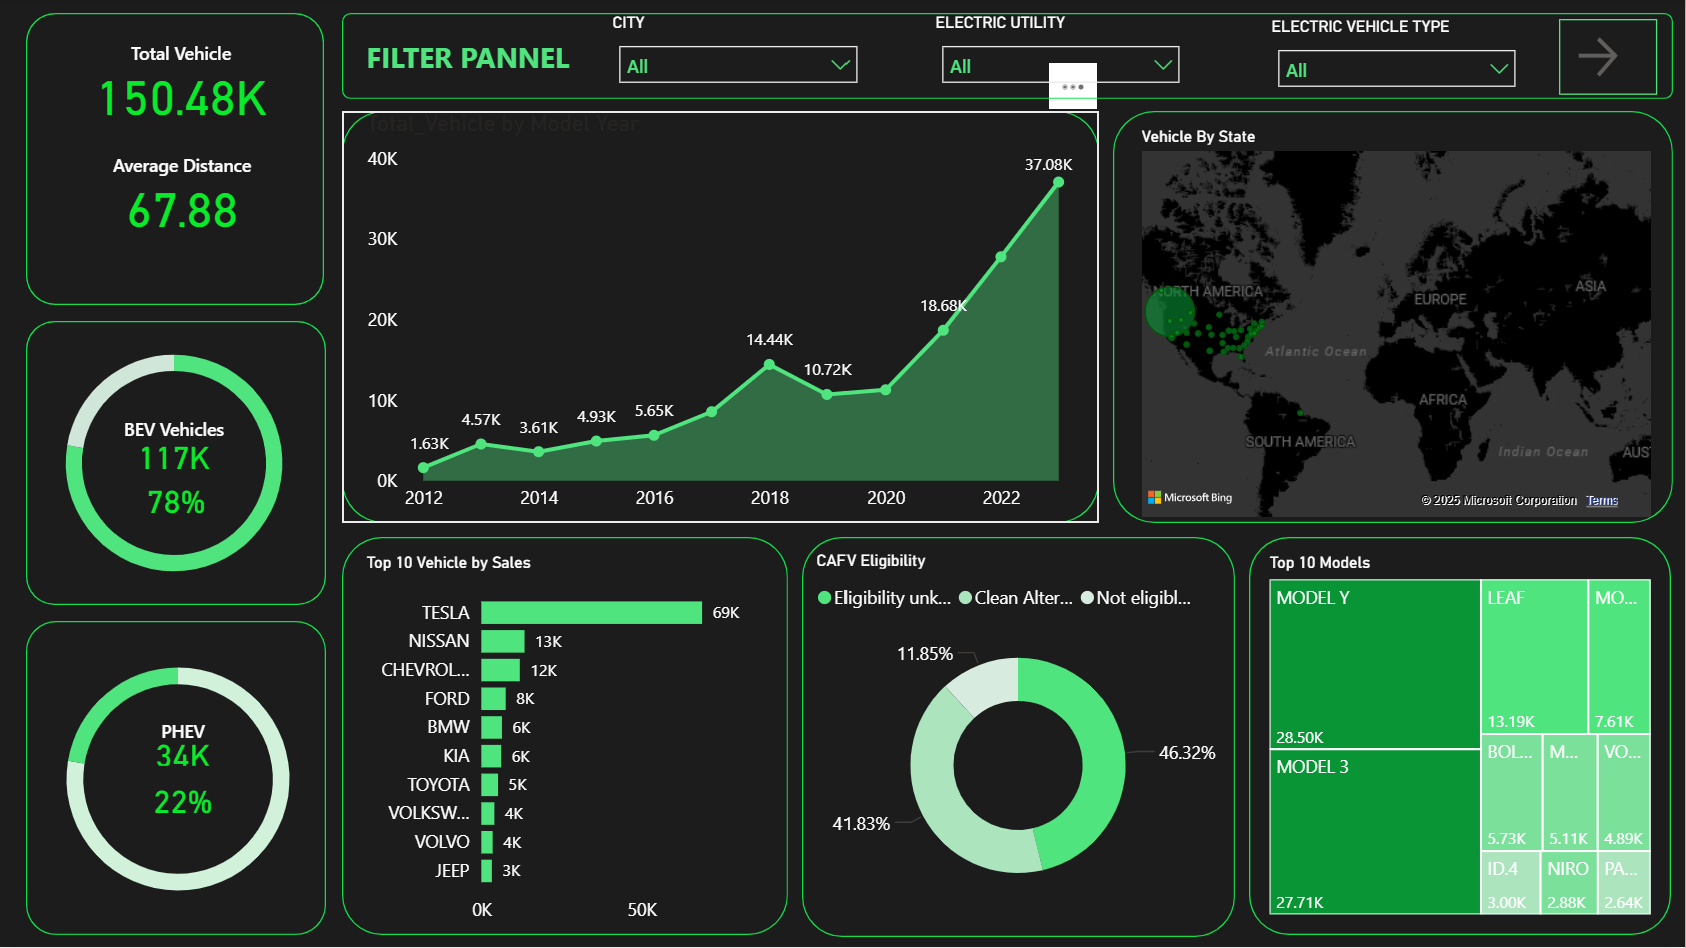

Layout of this report page (visuals, bound fields, positions):
{"tool":"powerbi","page":{"name":"Dashboard","canvas":[1280,720],"ordinal":0},"visuals":[{"type":"shape","box":[22.7,12.1,226,221.4],"z":0},{"type":"card","title":"Total Vehicle","fields":{"Values":["MeasureTable.Total_Vehicle"]},"box":[60.7,33.4,159.2,66.7],"z":1000},{"type":"card","title":"Average Distance","fields":{"Values":["MeasureTable.Average_Electric_Change"]},"box":[56.1,118.3,169.9,66.7],"z":2000},{"type":"shape","box":[22.7,245.7,227.5,215.4],"z":3000},{"type":"shape","box":[22.7,473.2,227.5,238.1],"z":4000},{"type":"card","title":"BEV Vehicles","fields":{"Values":["MeasureTable.BEV"]},"box":[86.4,318.5,97.1,47],"z":5000},{"type":"card","title":"PHEV","fields":{"Values":["MeasureTable.PBEV"]},"box":[91,547.5,101.6,39.4],"z":6000},{"type":"donutChart","fields":{"Y":["MeasureTable.Percentage Electric Vehicle Type"],"Category":["Electric_Vehicle_Population_Data.Electric Vehicle Type"]},"box":[21.2,245.7,227.5,215.4],"z":7000},{"type":"card","title":"Total Vehicle","fields":{"Values":["MeasureTable.BEV_percenatge_total"]},"box":[104.6,365.5,63.7,33.4],"z":8000},{"type":"donutChart","fields":{"Y":["MeasureTable.Percentage Electric Vehicle Type"],"Category":["Electric_Vehicle_Population_Data.Electric Vehicle Type"]},"box":[27.3,473.2,221.4,239.6],"z":9000},{"type":"card","title":"Total Vehicle","fields":{"Values":["MeasureTable.PHEV_percenatge_total"]},"box":[107.7,593,68.2,33.4],"z":10000},{"type":"lineChart","fields":{"Category":["Electric_Vehicle_Population_Data.Model Year"],"Y":["MeasureTable.Total_Vehicle"]},"box":[276,86.4,549,312.4],"z":11000},{"type":"shape","box":[262.4,86.4,573.3,312.4],"z":12000},{"type":"shape","box":[262.4,409.5,338.2,301.8],"z":12001},{"type":"shape","box":[611.2,409.5,327.6,303.3],"z":12002},{"type":"shape","box":[949.4,409.5,320,301.8],"z":12003},{"type":"shape","box":[846.3,86.4,424.6,312.4],"z":12004},{"type":"clusteredBarChart","title":"Top 10 Vehicle by Sales","fields":{"Category":["Electric_Vehicle_Population_Data.Make"],"Y":["MeasureTable.Total_Vehicle"]},"box":[276,421.6,317,289.7],"z":12005},{"type":"donutChart","title":"CAFV Eligibility","fields":{"Y":["MeasureTable.CAFV_percenatge_total"],"Category":["Electric_Vehicle_Population_Data.Clean Alternative Fuel Vehicle (CAFV) Eligibility"]},"box":[617.3,420.1,313.9,280.6],"z":12006},{"type":"treemap","title":"Top 10 Models","fields":{"Group":["Electric_Vehicle_Population_Data.Model"],"Values":["MeasureTable.Total_Vehicle"]},"box":[960,421.6,298.8,279.1],"z":12007},{"type":"map","title":"Vehicle By State","fields":{"Category":["Electric_Vehicle_Population_Data.State"],"Size":["MeasureTable.Total_Vehicle"]},"box":[862.9,98.6,395.8,300.3],"z":12008},{"type":"shape","box":[262.4,12.1,1008.5,65.2],"z":12009},{"type":"textbox","box":[276,25.8,175.9,40.9],"z":12010},{"type":"slicer","title":"CITY","fields":{"Values":["Electric_Vehicle_Population_Data.City"]},"box":[462.6,12.1,200.2,65.2],"z":12011},{"type":"slicer","title":"ELECTRIC UTILITY","fields":{"Values":["Electric_Vehicle_Population_Data.Electric Utility"]},"box":[706.7,12.1,200.2,65.2],"z":12012},{"type":"slicer","title":"ELECTRIC VEHICLE TYPE","fields":{"Values":["Electric_Vehicle_Population_Data.Electric Vehicle Type"]},"box":[961.5,15.2,200.2,65.2],"z":12013},{"type":"actionButton","title":"Calculation Page","box":[1184.5,16.7,74.3,57.6],"z":12014}]}

Visuals, with their boxes in screenshot pixels (x1, y1, x2, y2), scaled from the page's 1280x720 canvas onto the 1686x948 screenshot:
shape: region(30, 16, 328, 307)
"Total Vehicle" card: region(80, 44, 290, 132)
"Average Distance" card: region(74, 156, 298, 244)
shape: region(30, 324, 330, 607)
shape: region(30, 623, 330, 937)
"BEV Vehicles" card: region(114, 419, 242, 481)
"PHEV" card: region(120, 721, 254, 773)
donutChart - MeasureTable.Percentage Electric Vehicle Type x Electric_Vehicle_Population_Data.Electric Vehicle Type: region(28, 324, 328, 607)
"Total Vehicle" card: region(138, 481, 222, 525)
donutChart - MeasureTable.Percentage Electric Vehicle Type x Electric_Vehicle_Population_Data.Electric Vehicle Type: region(36, 623, 328, 939)
"Total Vehicle" card: region(142, 781, 232, 825)
lineChart - Electric_Vehicle_Population_Data.Model Year x MeasureTable.Total_Vehicle: region(364, 114, 1087, 525)
shape: region(346, 114, 1101, 525)
shape: region(346, 539, 791, 937)
shape: region(805, 539, 1237, 939)
shape: region(1251, 539, 1672, 937)
shape: region(1115, 114, 1674, 525)
"Top 10 Vehicle by Sales" clusteredBarChart: region(364, 555, 781, 937)
"CAFV Eligibility" donutChart: region(813, 553, 1227, 923)
"Top 10 Models" treemap: region(1264, 555, 1658, 923)
"Vehicle By State" map: region(1137, 130, 1658, 525)
shape: region(346, 16, 1674, 102)
textbox: region(364, 34, 595, 88)
"CITY" slicer: region(609, 16, 873, 102)
"ELECTRIC UTILITY" slicer: region(931, 16, 1195, 102)
"ELECTRIC VEHICLE TYPE" slicer: region(1266, 20, 1530, 106)
"Calculation Page" actionButton: region(1560, 22, 1658, 98)
